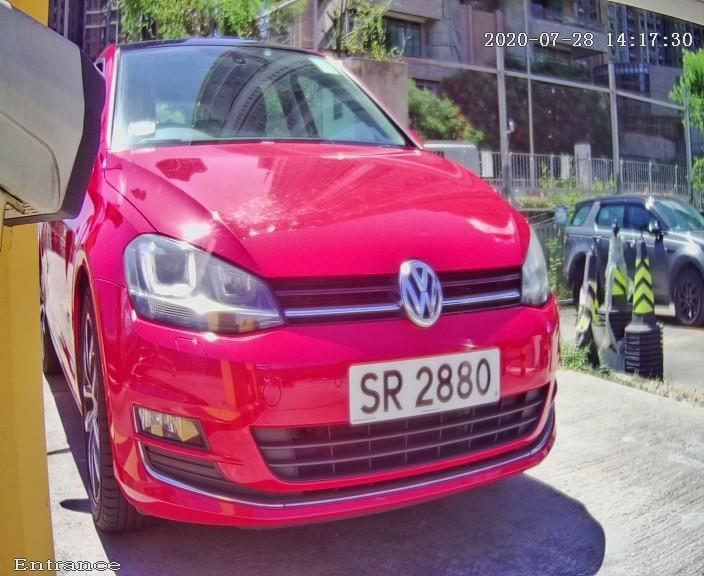privatecar: (41, 11, 623, 566)
